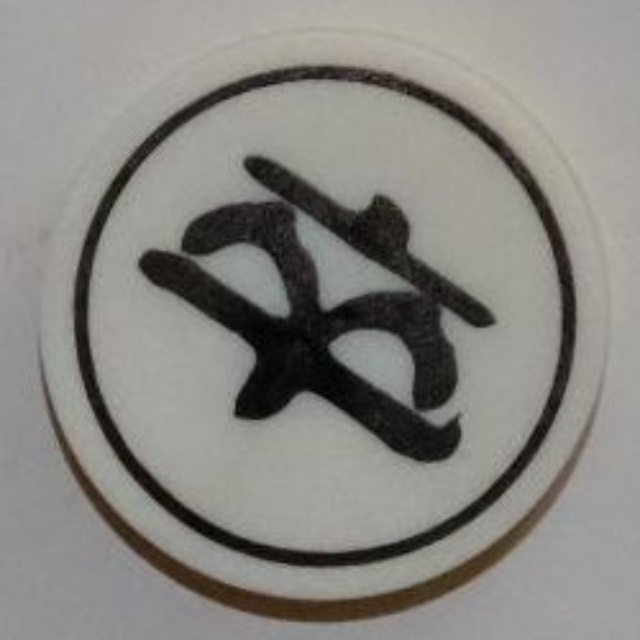black_chot: (33, 31, 617, 609)
